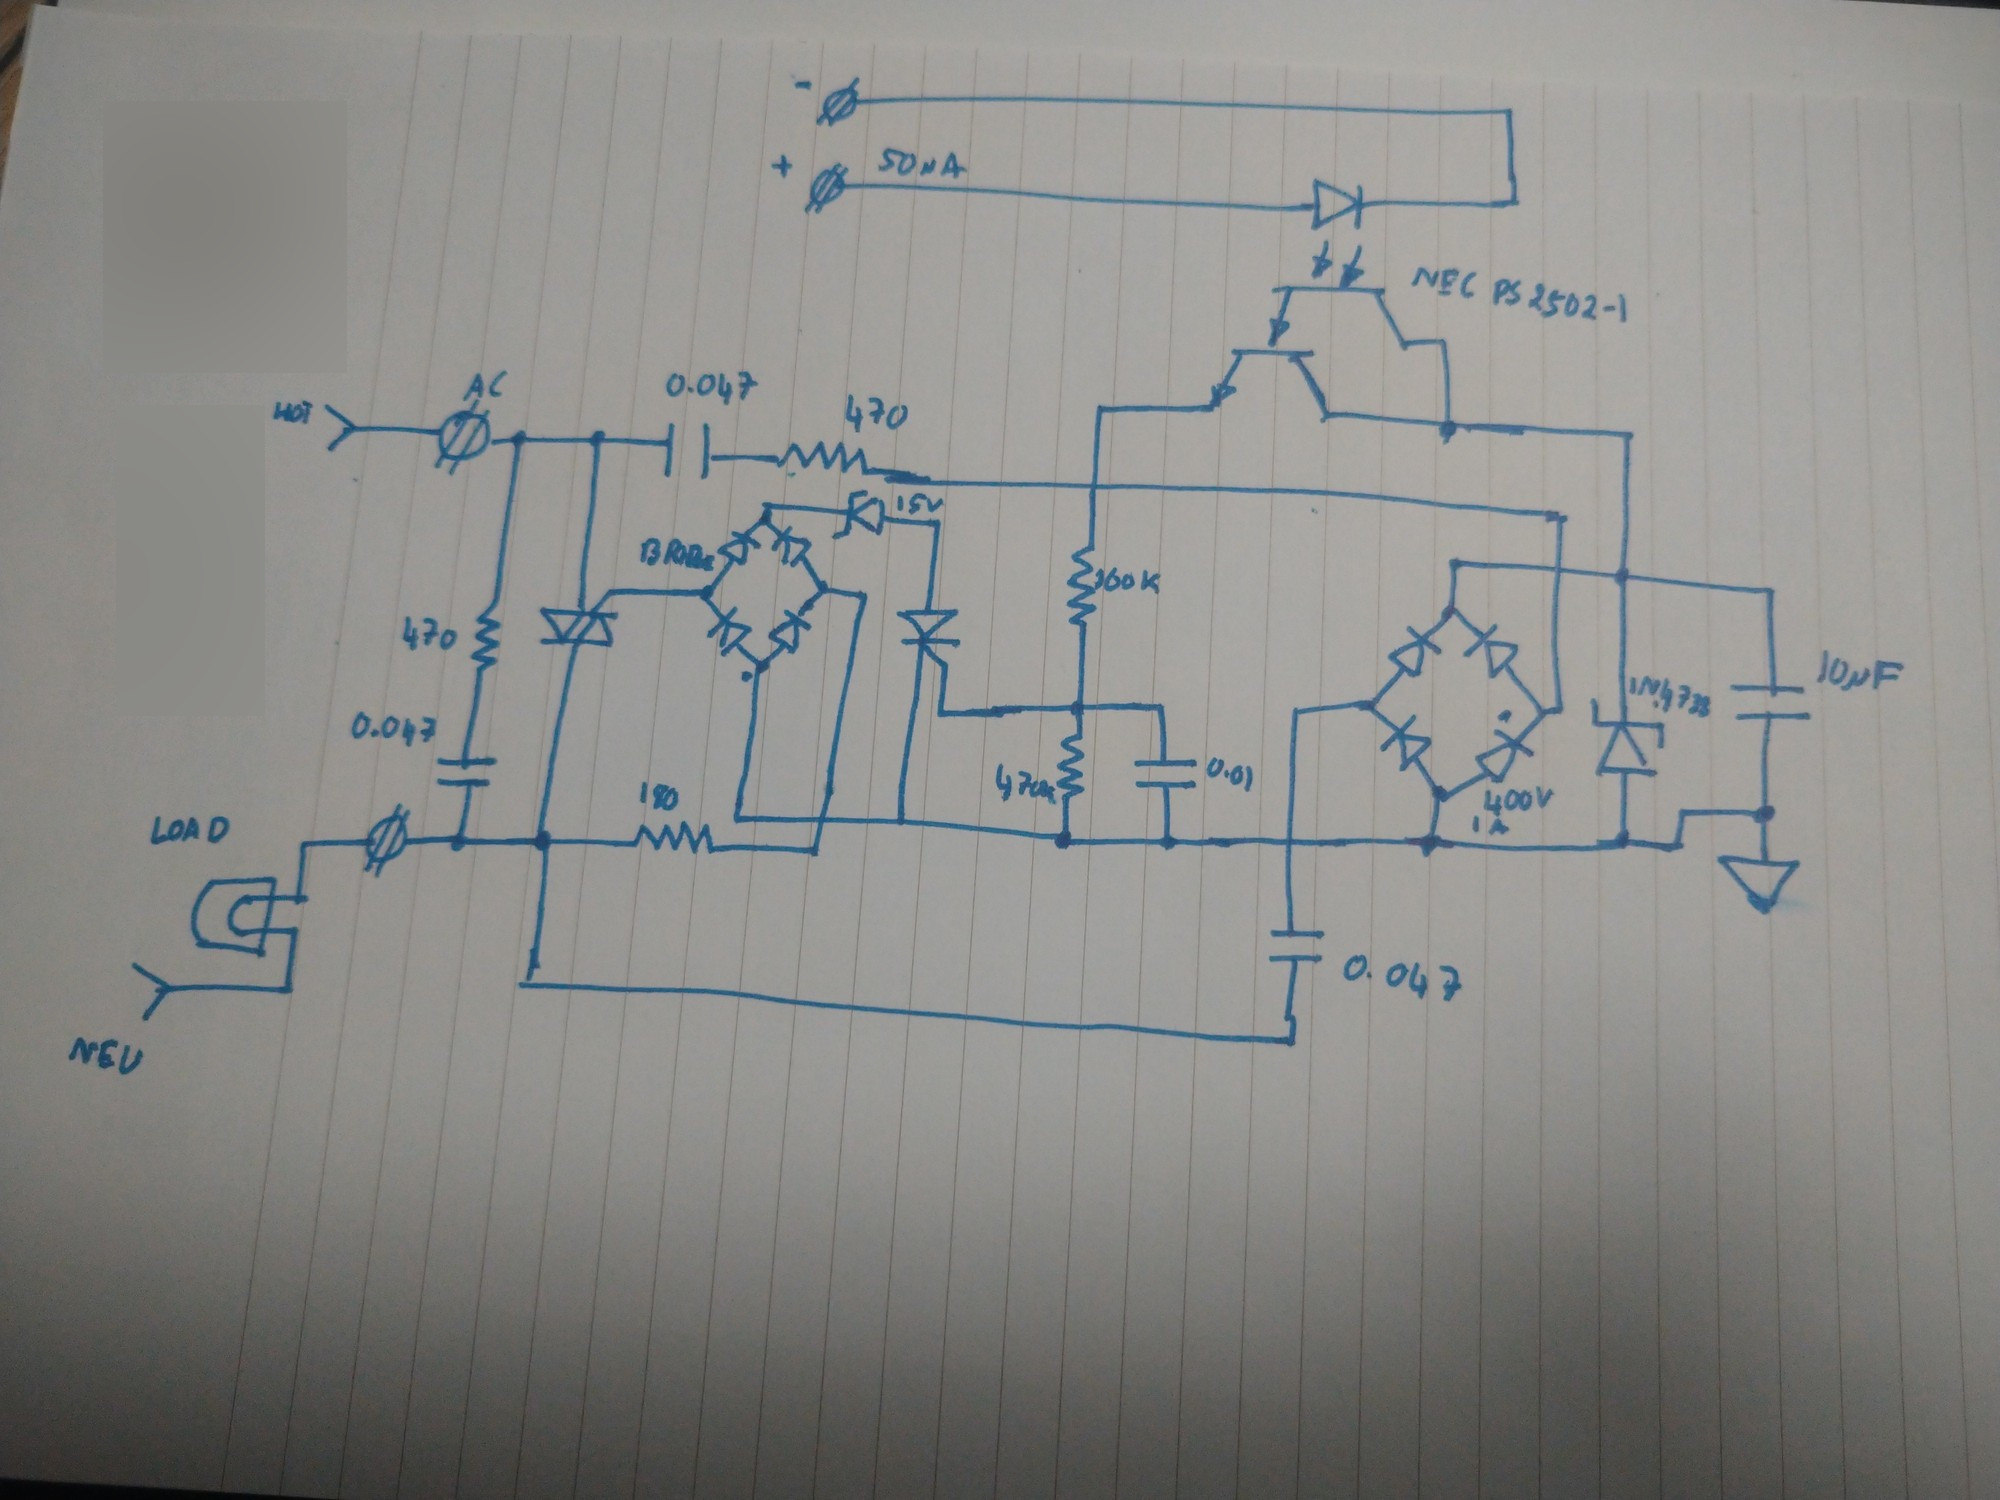capacitor.unpolarized: (1731, 674, 1811, 734), (661, 421, 717, 481), (1132, 753, 1198, 797), (1268, 922, 1324, 971), (436, 752, 498, 793)
crossover: (1546, 559, 1572, 580), (813, 810, 833, 829), (1280, 830, 1299, 851), (1083, 476, 1104, 495)
diode: (1587, 696, 1666, 778), (1472, 728, 1532, 785), (1463, 624, 1520, 679), (1380, 715, 1435, 770), (1387, 626, 1441, 678), (831, 490, 887, 540), (709, 607, 753, 655), (713, 528, 764, 570), (769, 525, 816, 569), (769, 608, 813, 654)
gnd: (1717, 852, 1803, 915)
junction: (1419, 829, 1446, 857), (1436, 413, 1461, 443), (1545, 503, 1573, 528), (1753, 802, 1778, 829), (529, 827, 554, 852), (1052, 827, 1076, 852), (586, 425, 609, 451), (751, 652, 773, 678), (1428, 783, 1454, 805), (517, 971, 540, 993), (1068, 696, 1090, 718), (509, 429, 531, 451), (1613, 829, 1635, 851), (1613, 566, 1635, 588), (698, 581, 718, 605), (450, 827, 469, 852), (1282, 1027, 1301, 1053), (1287, 700, 1307, 722), (1364, 692, 1384, 714), (1157, 830, 1178, 851), (1619, 422, 1639, 443), (806, 840, 825, 862), (1150, 698, 1172, 717), (891, 811, 912, 830), (813, 578, 833, 597), (1441, 603, 1461, 622), (1762, 581, 1783, 600), (283, 922, 302, 941), (756, 514, 775, 533), (1668, 837, 1687, 856), (928, 514, 946, 533), (279, 978, 296, 999), (1498, 106, 1520, 121), (729, 808, 746, 827), (759, 496, 778, 514), (1091, 399, 1109, 416), (290, 890, 309, 906), (1553, 700, 1569, 718), (1433, 332, 1452, 348), (298, 834, 313, 851), (1532, 704, 1550, 720), (857, 588, 871, 607), (1447, 555, 1463, 570), (1506, 195, 1521, 211), (1676, 804, 1690, 819), (934, 704, 946, 722)
lamp: (187, 876, 279, 958)
optocoupler: (1265, 178, 1409, 348)
resistor: (775, 441, 869, 477), (631, 819, 717, 856), (1065, 545, 1098, 629), (469, 602, 501, 674), (1057, 733, 1085, 802)
terminal: (131, 960, 172, 1023), (805, 162, 849, 216), (816, 77, 860, 126), (321, 403, 357, 452)
text: (1411, 266, 1628, 328), (1343, 953, 1463, 1002), (1817, 648, 1904, 692), (1628, 674, 1713, 718), (661, 370, 761, 405), (351, 711, 438, 748), (877, 147, 965, 180), (69, 1035, 143, 1075), (150, 811, 230, 846), (639, 537, 715, 574), (995, 761, 1057, 805), (844, 392, 910, 433), (402, 613, 458, 654), (1094, 566, 1162, 597), (1482, 786, 1553, 816), (1205, 755, 1254, 793), (463, 369, 509, 402), (638, 780, 680, 813), (271, 399, 317, 425), (894, 492, 945, 515), (1471, 815, 1510, 837)
thyristor: (893, 607, 969, 674)
transistor: (1209, 347, 1332, 425)
triac: (535, 585, 624, 649)
